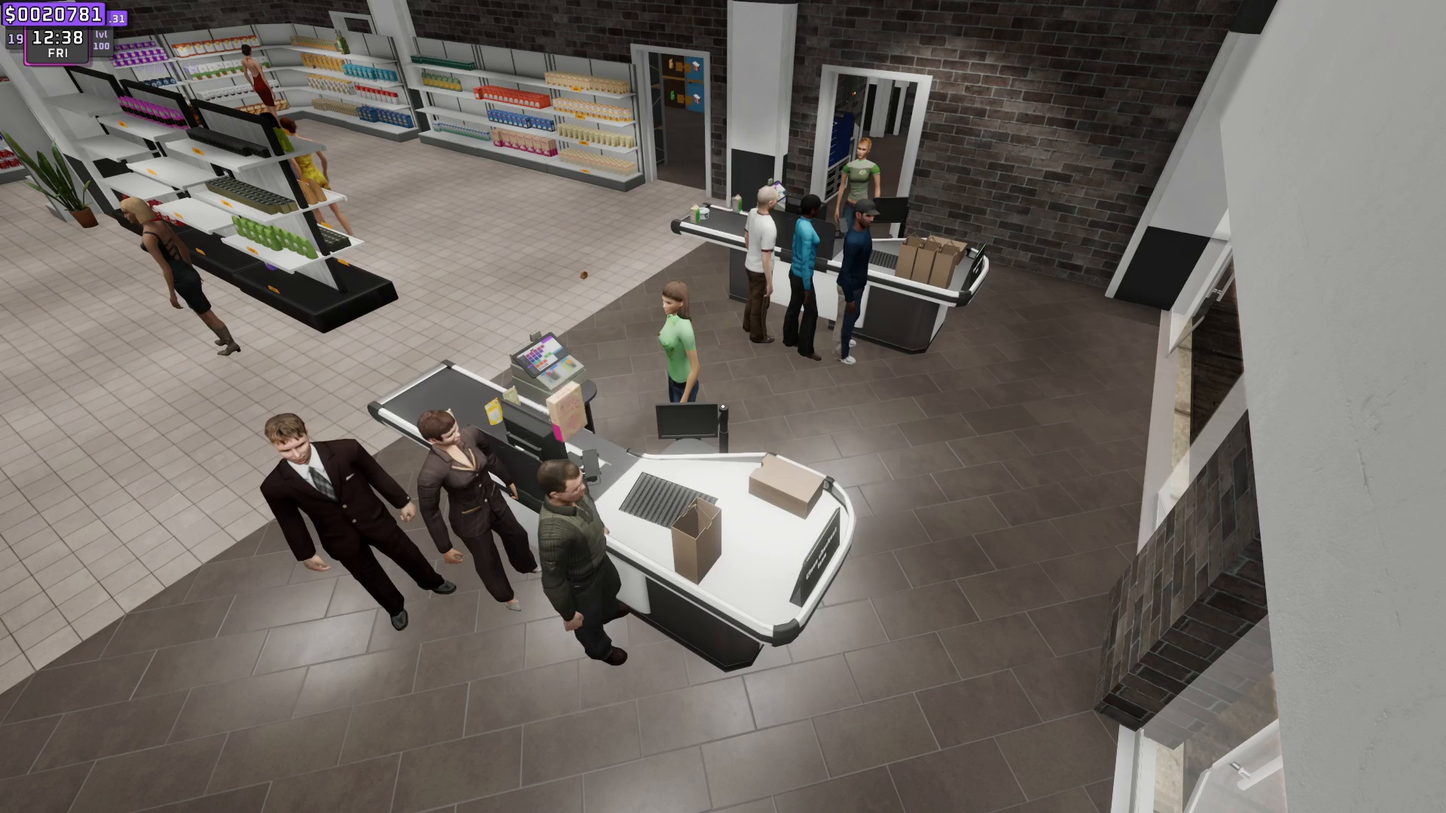Client: (244, 420, 438, 616), (406, 404, 529, 601), (535, 456, 605, 672), (736, 184, 781, 339), (841, 205, 881, 365), (788, 194, 826, 362)
Employee: (652, 284, 710, 402), (844, 136, 883, 218)
